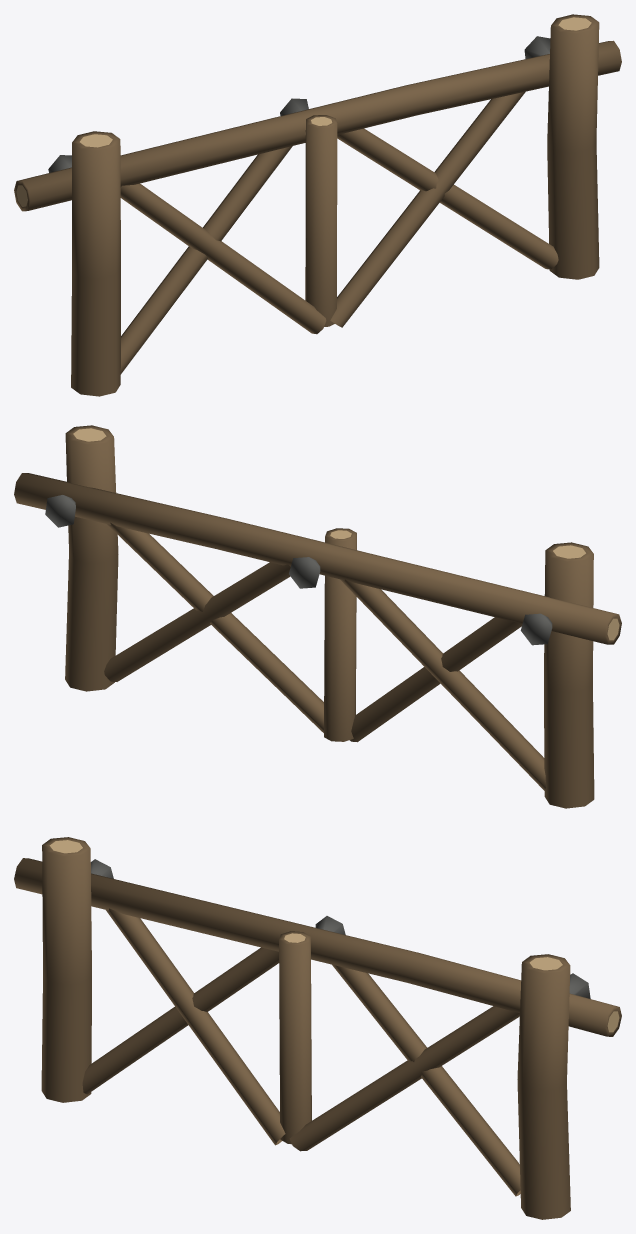
File: rpgpp_ag_fence_02a_2m.fbx
3 renders of one model, top to bottom at view 1: azimuth 30°, elevation 25°; view 2: azimuth 150°, elevation 25°; view 3: azimuth 330°, elevation 25°, orthographic.
Visible parts, largest first — view 1: rpgpp_ag_fence_02a_2m; view 2: rpgpp_ag_fence_02a_2m; view 3: rpgpp_ag_fence_02a_2m.
Part boxes in pixels (x1,y1,x2,y2): rpgpp_ag_fence_02a_2m: (14,14,621,396); rpgpp_ag_fence_02a_2m: (14,425,621,808); rpgpp_ag_fence_02a_2m: (14,837,621,1219).
Size of the model in its own units: 4.39 by 1.74 by 0.5847.
